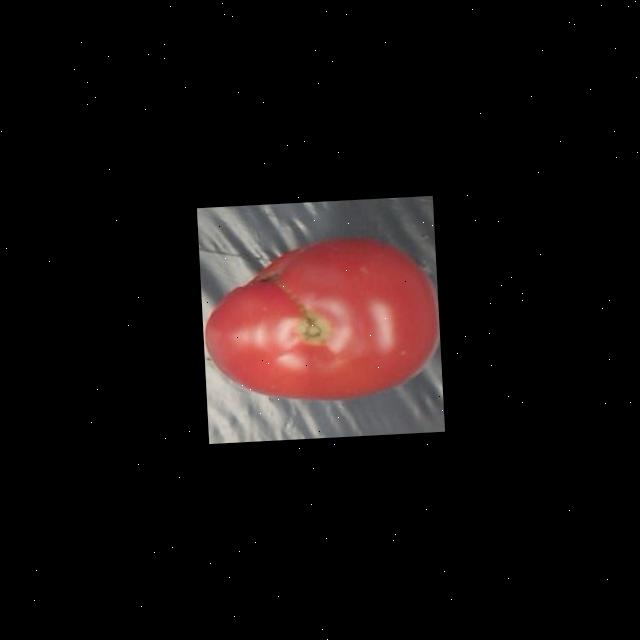tomato: (205, 240, 439, 399)
